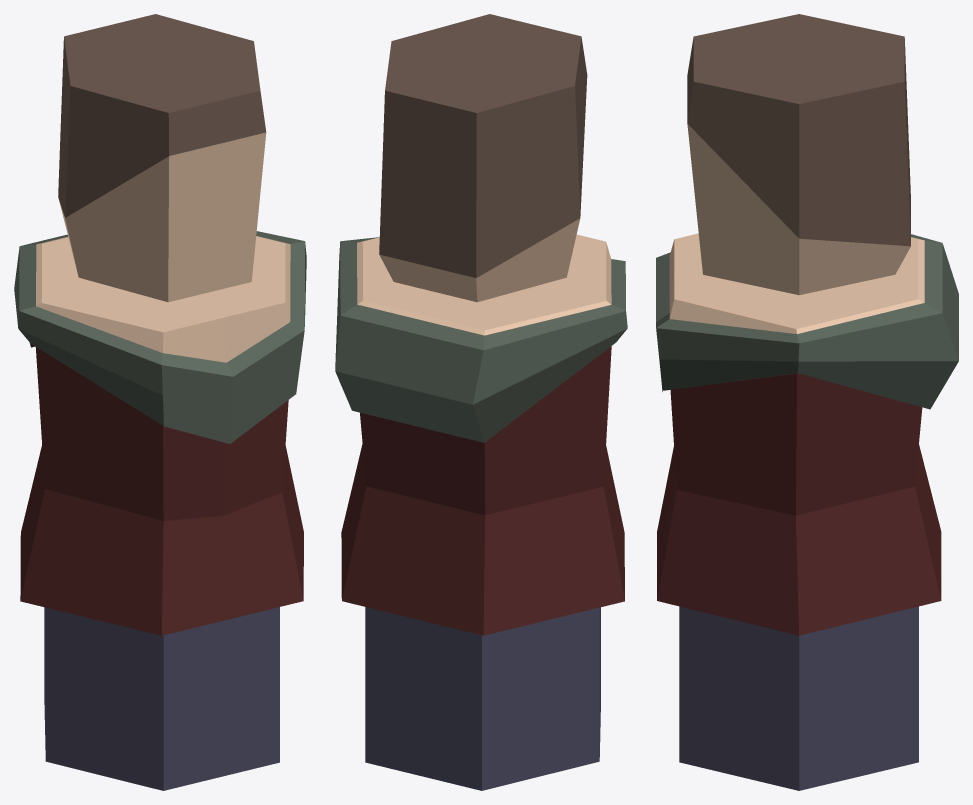
File: BrokenMan#1.fbx
The picture shows the model from 3 angles, left to right: view 1: azimuth 30°, elevation 25°; view 2: azimuth 150°, elevation 25°; view 3: azimuth 270°, elevation 25°; orthographic projection.
Parts seen in each view (by area): view 1: BrokenMan#1, BrokenMan#1.001, BrokenMan#1.002; view 2: BrokenMan#1, BrokenMan#1.001, BrokenMan#1.002; view 3: BrokenMan#1, BrokenMan#1.001, BrokenMan#1.002.
Part boxes in pixels (box(x1,y1,x2,y2)): BrokenMan#1: box(14, 231, 306, 635); BrokenMan#1.001: box(58, 14, 266, 302); BrokenMan#1.002: box(44, 607, 279, 790); BrokenMan#1: box(335, 234, 627, 635); BrokenMan#1.001: box(379, 14, 587, 302); BrokenMan#1.002: box(365, 607, 600, 790); BrokenMan#1: box(656, 233, 958, 635); BrokenMan#1.001: box(687, 14, 910, 295); BrokenMan#1.002: box(679, 606, 918, 790).
Size of the model in its own units: 155 by 344 by 140.
